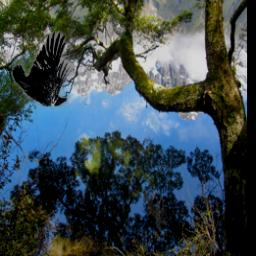Crow: (12, 31, 75, 107)
